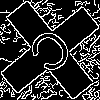C: (25, 25, 82, 84)
